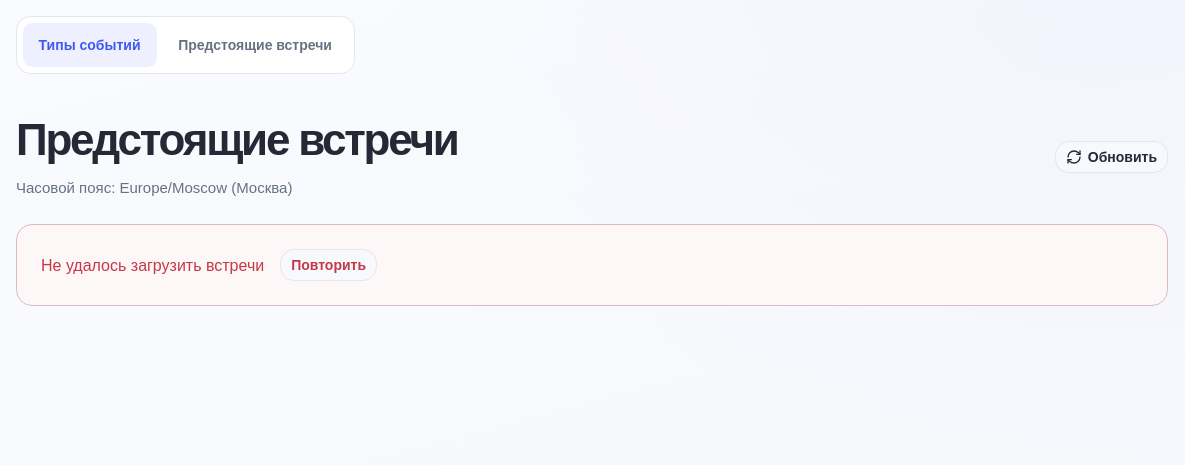
error is distinct from empty and retry loads empty response
expect the message shows "Не удалось загрузить встречи": met, box [41,256,264,274]
expect the text "Предстоящих встреч пока нет" is not shown: met
Click the button "Повторить" at (329,265), box [280,249,377,281]
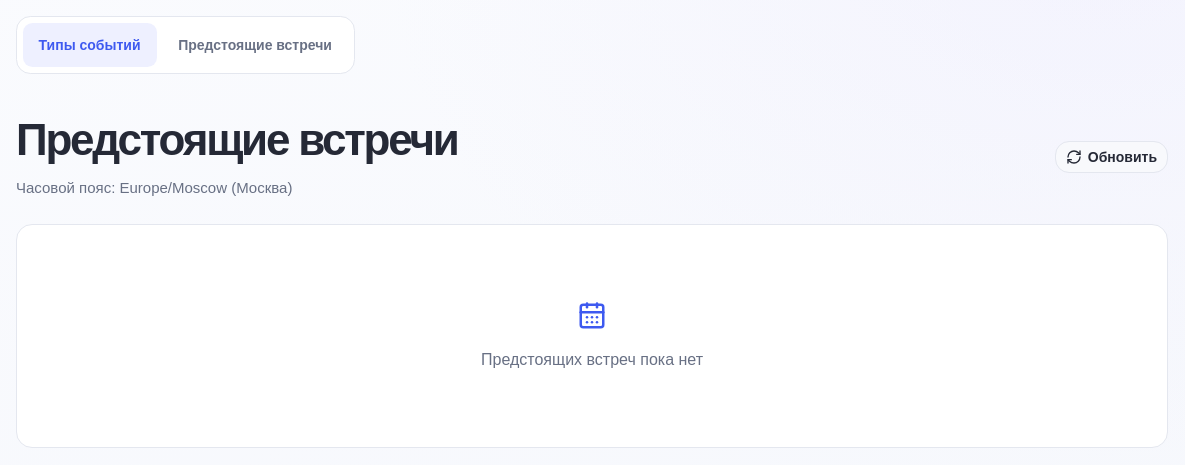
expect the text "Предстоящих встреч пока нет" is shown: met, box [481,346,703,372]
